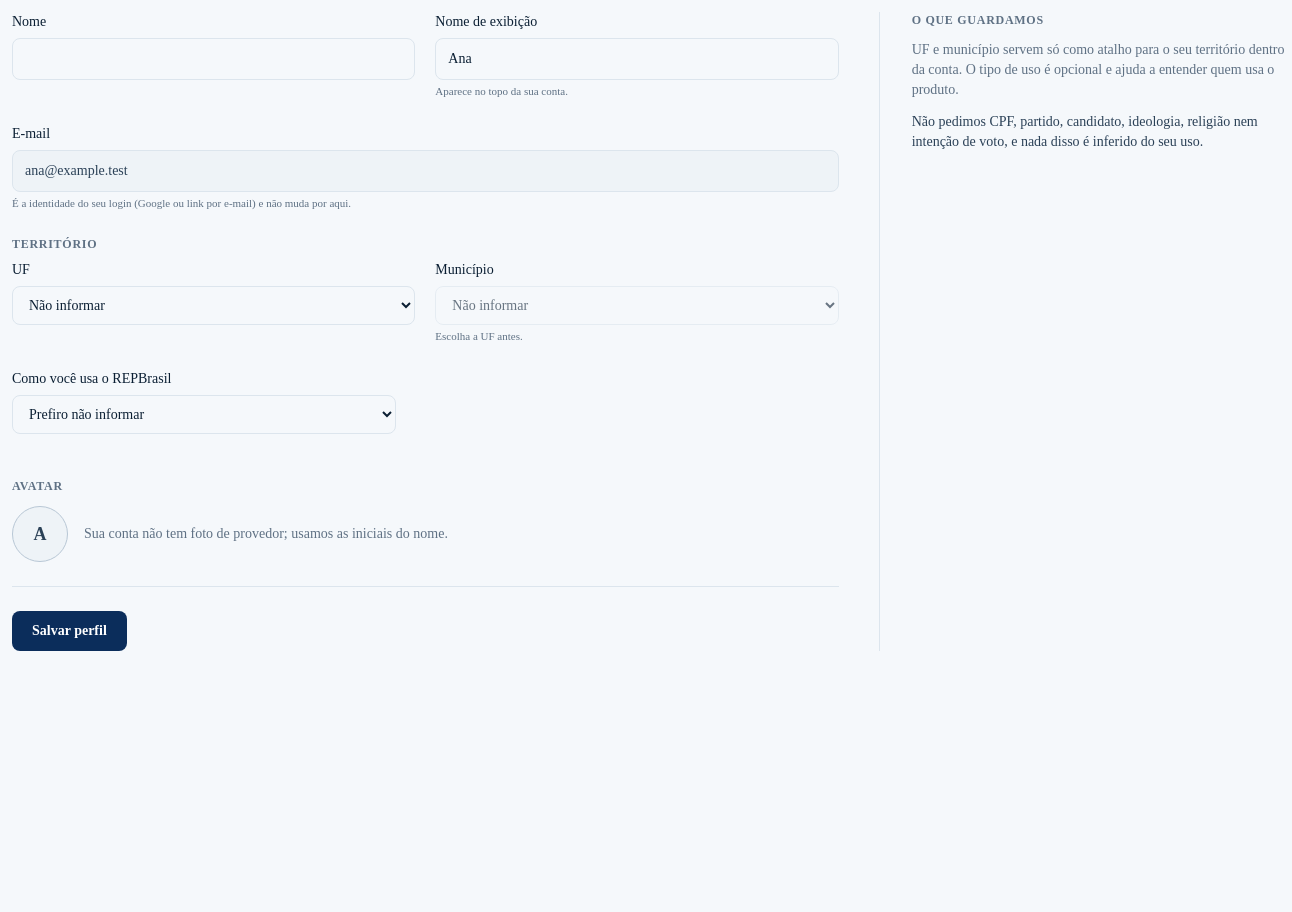
it: perfil › validação da API aparece como alerta, com a mensagem dela
What coordinates should you click on to do the following:
click the button "Salvar perfil"
I would click on:
 (69, 631)
Its box is [12,611,127,651].
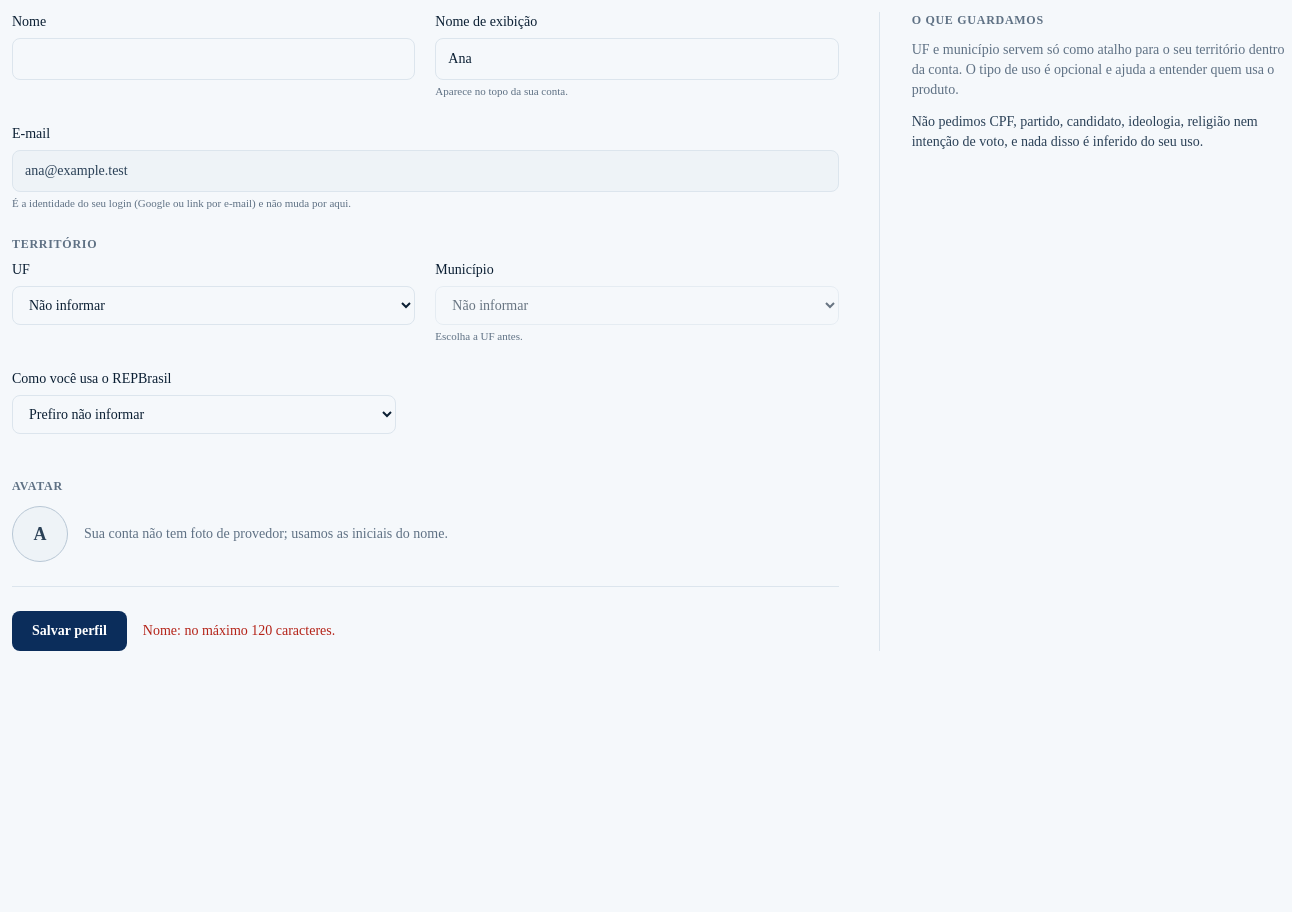
Result: the message reads "Nome: no máximo 120 caracteres." at [143,623,335,638]
